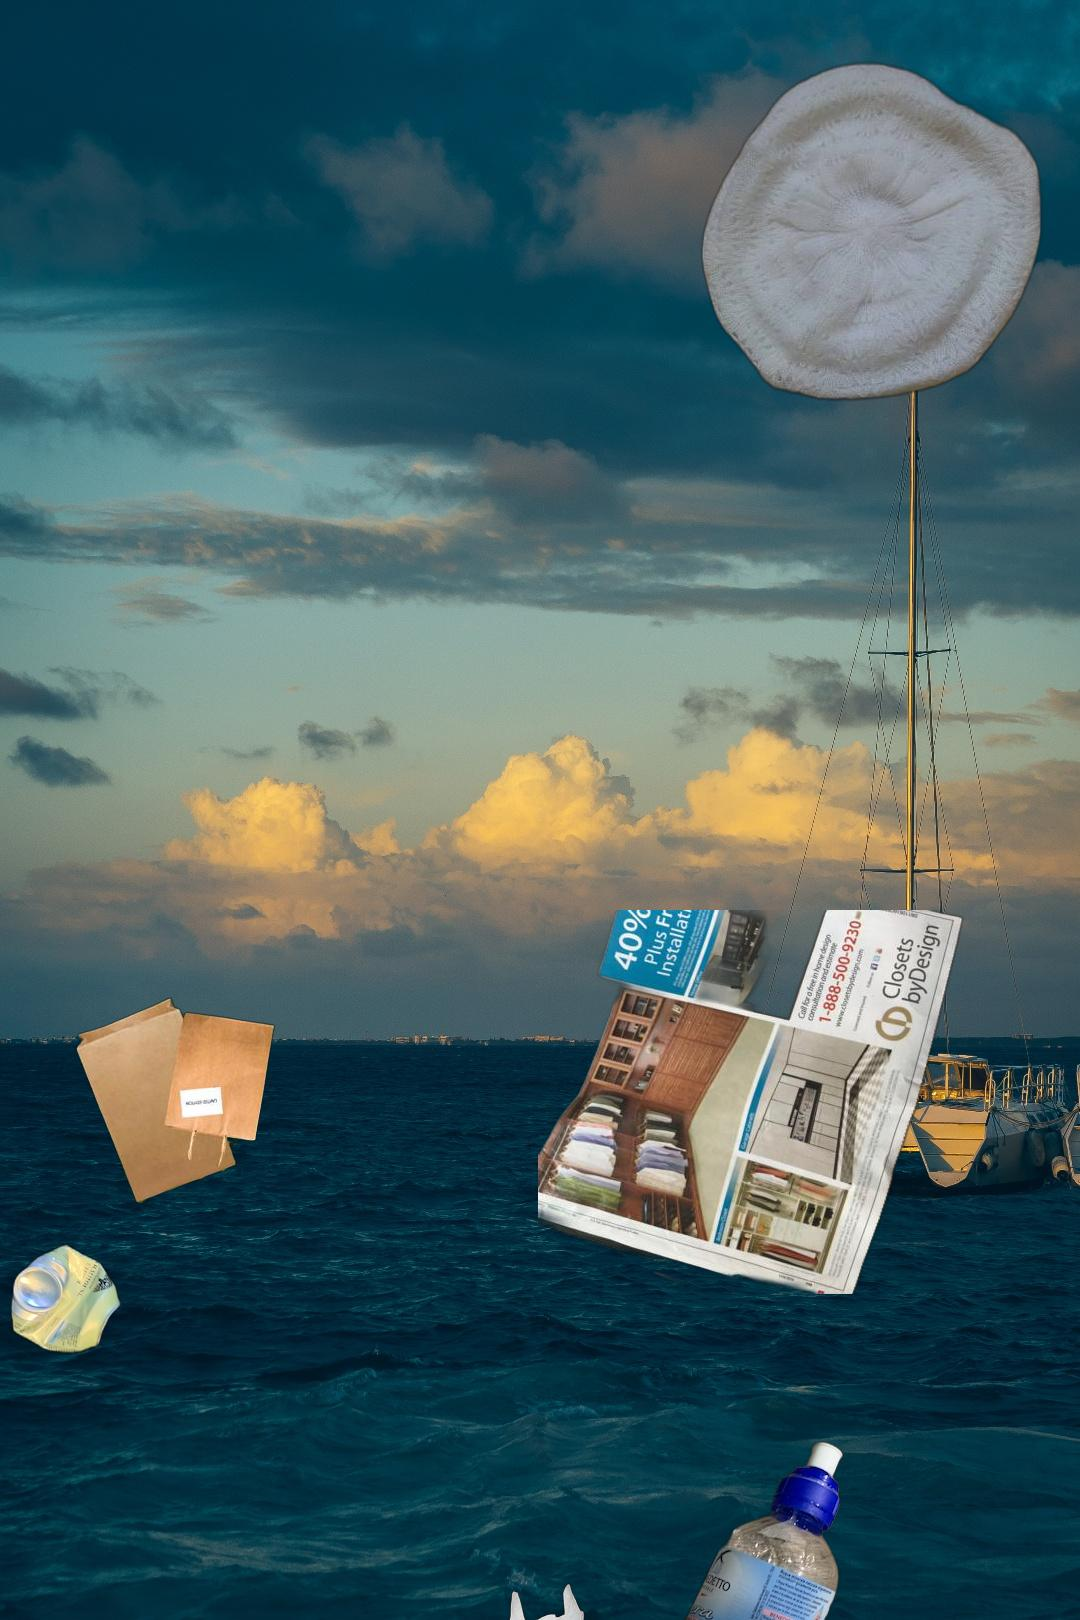clothes: (698, 55, 1045, 407)
metal-cans: (6, 1240, 125, 1360)
paper: (538, 910, 967, 1295)
paper-bag: (74, 997, 276, 1207)
plastic-bag: (506, 1581, 727, 1620)
plastic-bottles: (614, 1437, 846, 1620)
